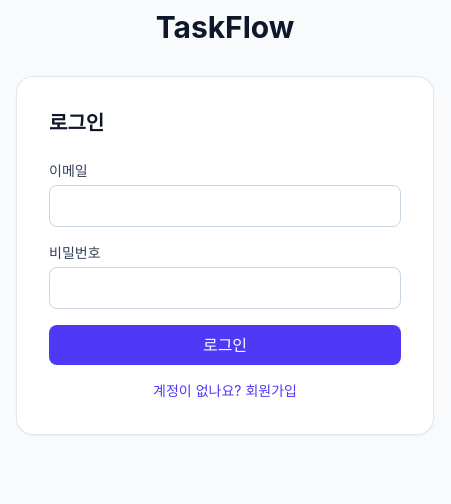
Scenario: 로그인 화면 › 서버에 연결할 수 없으면 안내 메시지를 보여준다
In the field labelled "이메일": (225, 206) [49,185,401,227], type "alice@example.com"
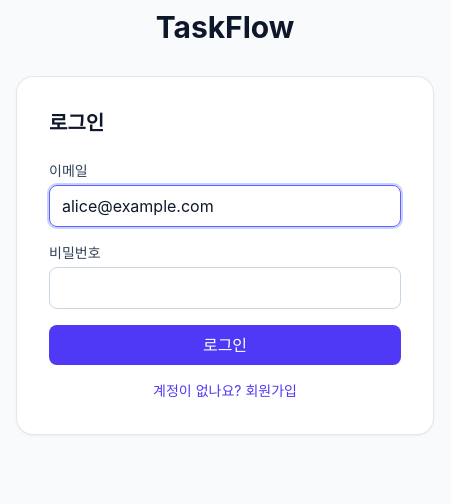
In the password field labelled "비밀번호": (225, 288) [49,267,401,309], type "correct-horse"
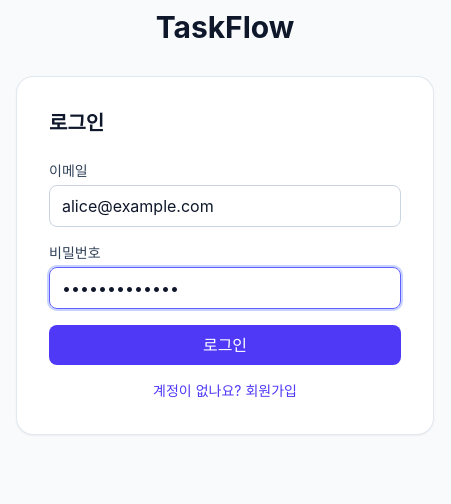
Click the button "로그인": (225, 345) [49,325,401,365]
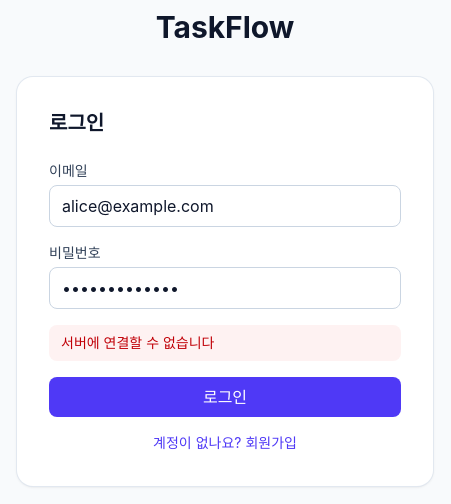
Check: the message reads "서버에 연결할 수 없습니다", box [61,334,214,351]
